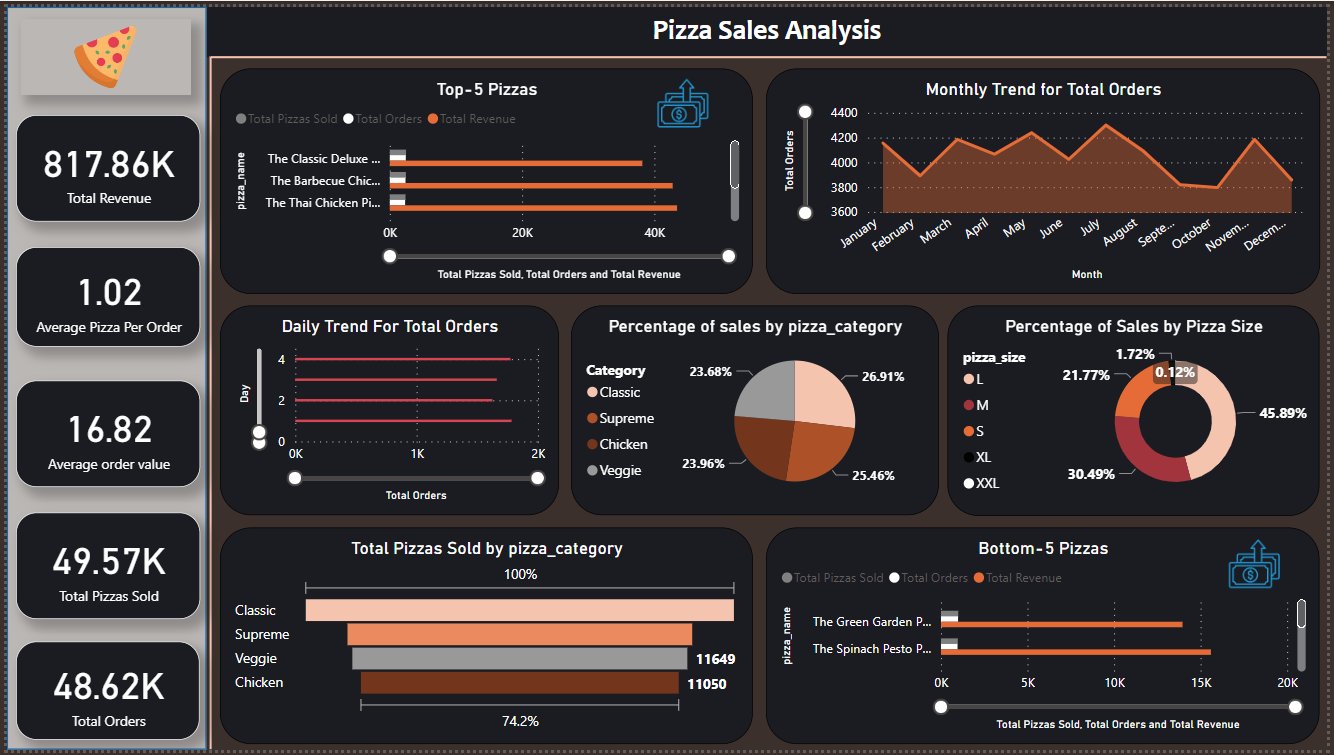

Layout of this report page (visuals, bound fields, positions):
{"tool":"powerbi","page":{"name":"Page 1","canvas":[1280,720],"ordinal":0},"visuals":[{"type":"textbox","box":[193.3,0,1086.7,48.3],"z":0},{"type":"shape","box":[183.3,48.3,28.3,671.7],"z":2000},{"type":"clusteredBarChart","title":"Daily Trend For Total Orders","fields":{"Y":["pizza_sales.Total Orders"],"Category":["pizza_sales.order_date.Variation.Date Hierarchy.Day"]},"box":[206.7,290,328.3,203.3],"z":3000},{"type":"stackedAreaChart","title":"Monthly Trend for Total Orders","fields":{"Y":["pizza_sales.Total Orders"],"Category":["pizza_sales.order_date.Variation.Date Hierarchy.Month"]},"box":[736.2,59.9,537.2,218.4],"z":4000},{"type":"pieChart","title":"Percentage of sales by pizza_category","fields":{"Y":["pizza_sales.Total Revenue"],"Category":["pizza_sales.pizza_category"]},"box":[546.7,290,356.7,203.3],"z":5000},{"type":"donutChart","title":" Percentage of Sales by Pizza Size","fields":{"Category":["pizza_sales.pizza_size"],"Y":["pizza_sales.Total Revenue"]},"box":[912.5,289.6,360.8,203.9],"z":6000},{"type":"funnel","fields":{"Category":["pizza_sales.pizza_category"],"Y":["pizza_sales.Total Pizzas Sold"]},"box":[206.7,505,516.7,210],"z":7000},{"type":"clusteredBarChart","title":"Top-5 Pizzas","fields":{"Y":["pizza_sales.Total Pizzas Sold","pizza_sales.Total Orders","pizza_sales.Total Revenue"],"Category":["pizza_sales.pizza_name"]},"box":[206.7,60,516.7,218.3],"z":8000},{"type":"clusteredBarChart","title":"Bottom-5 Pizzas","fields":{"Y":["pizza_sales.Total Pizzas Sold","pizza_sales.Total Orders","pizza_sales.Total Revenue"],"Category":["pizza_sales.pizza_name"]},"box":[736.7,505,536.7,210],"z":9000},{"type":"shape","box":[198.3,31.7,1081.7,33.3],"z":10000},{"type":"shape","box":[0,0,193.3,720],"z":11000},{"type":"card","fields":{"Values":["pizza_sales.Total Revenue"]},"box":[8.3,105,178.3,103.3],"z":12000},{"type":"card","fields":{"Values":["pizza_sales.Average Pizza Per Order"]},"box":[8.3,233.3,178.3,96.7],"z":13000},{"type":"card","fields":{"Values":["pizza_sales.Average order value"]},"box":[8.3,361.7,178.3,103.3],"z":14000},{"type":"card","fields":{"Values":["pizza_sales.Total Pizzas Sold"]},"box":[8.3,490,178.3,103.3],"z":15000},{"type":"card","fields":{"Values":["pizza_sales.Total Orders"]},"box":[8.1,614.8,178,95.5],"z":16000},{"type":"image","box":[621.7,60,68.3,66.7],"z":17000},{"type":"image","box":[1173.3,505.6,71.1,66.7],"z":18000},{"type":"image","box":[13.3,11.7,165,73.3],"z":19000}]}

Visuals, with their boxes in screenshot pixels (x1, y1, x2, y2), scaled from the page's 1280x720 canvas onto the 1334x755 screenshot:
textbox: 201 0 1333 51
shape: 191 51 221 754
"Daily Trend For Total Orders" clusteredBarChart: 215 304 558 517
"Monthly Trend for Total Orders" stackedAreaChart: 767 63 1327 292
"Percentage of sales by pizza_category" pieChart: 570 304 942 517
" Percentage of Sales by Pizza Size" donutChart: 951 304 1327 517
funnel - pizza_sales.pizza_category x pizza_sales.Total Pizzas Sold: 215 530 754 750
"Top-5 Pizzas" clusteredBarChart: 215 63 754 292
"Bottom-5 Pizzas" clusteredBarChart: 768 530 1327 750
shape: 207 33 1333 68
shape: 0 0 201 754
card - pizza_sales.Total Revenue: 9 110 194 218
card - pizza_sales.Average Pizza Per Order: 9 245 194 346
card - pizza_sales.Average order value: 9 379 194 488
card - pizza_sales.Total Pizzas Sold: 9 514 194 622
card - pizza_sales.Total Orders: 8 645 194 745
image: 648 63 719 133
image: 1223 530 1297 600
image: 14 12 186 89
